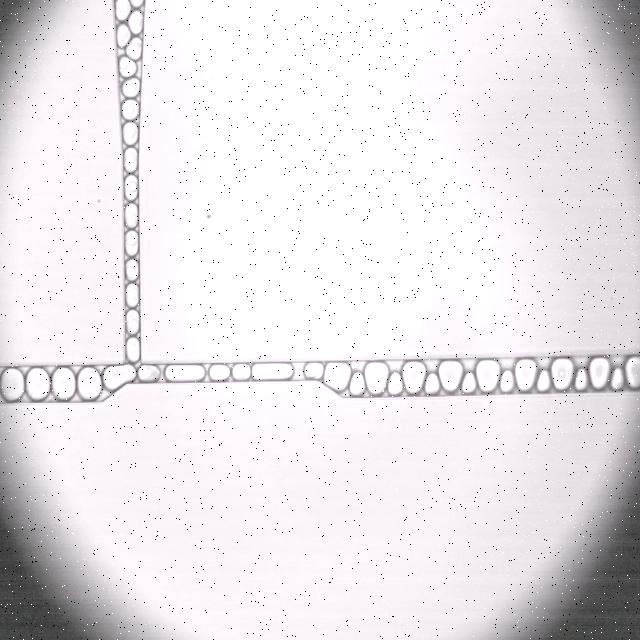L: (350, 372, 365, 396), (209, 364, 230, 381), (126, 37, 141, 60), (122, 78, 140, 97), (304, 362, 323, 380), (122, 100, 139, 120), (124, 203, 138, 227), (124, 231, 138, 255), (139, 365, 160, 381), (123, 122, 138, 144), (425, 373, 440, 395), (461, 372, 476, 394), (125, 175, 138, 200), (129, 11, 143, 34), (388, 372, 402, 395), (115, 0, 131, 20), (120, 57, 136, 77), (124, 148, 137, 172), (126, 310, 139, 334), (125, 284, 139, 306), (500, 370, 514, 392), (574, 369, 588, 391), (117, 24, 130, 47), (126, 338, 139, 361), (232, 364, 250, 380), (125, 259, 138, 281), (537, 370, 550, 391), (611, 368, 623, 390), (130, 0, 143, 6)
S: (103, 365, 136, 391), (324, 362, 351, 392), (26, 367, 50, 400), (77, 367, 101, 400), (364, 362, 388, 395), (402, 361, 426, 394), (1, 368, 24, 401), (52, 367, 75, 400), (476, 360, 499, 392), (438, 361, 462, 391), (551, 358, 573, 390), (252, 363, 292, 380), (515, 359, 536, 391), (589, 357, 610, 389), (165, 365, 205, 381), (625, 357, 640, 388)
